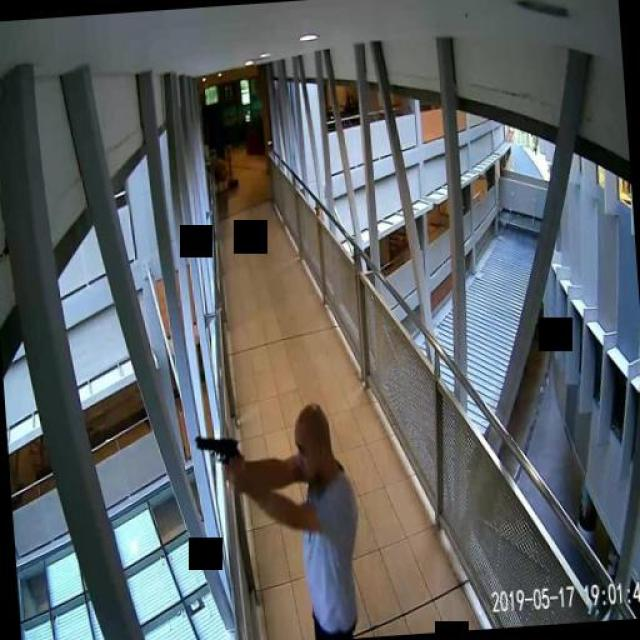gun: (191, 427, 251, 498)
